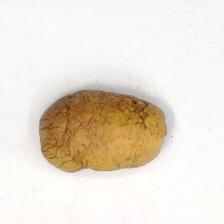NG: (38, 91, 90, 171), (118, 91, 155, 132)
